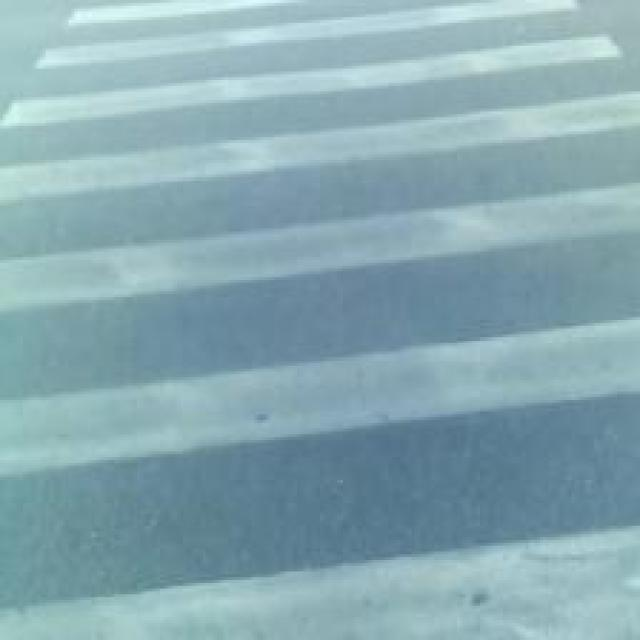walk-crossing: (46, 40, 600, 634)
